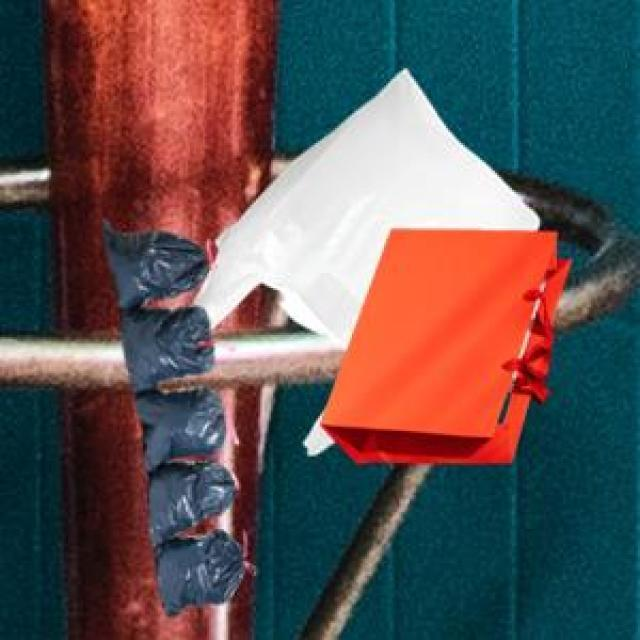miscellaneous trash: (100, 216, 243, 614)
paper: (316, 226, 568, 459)
